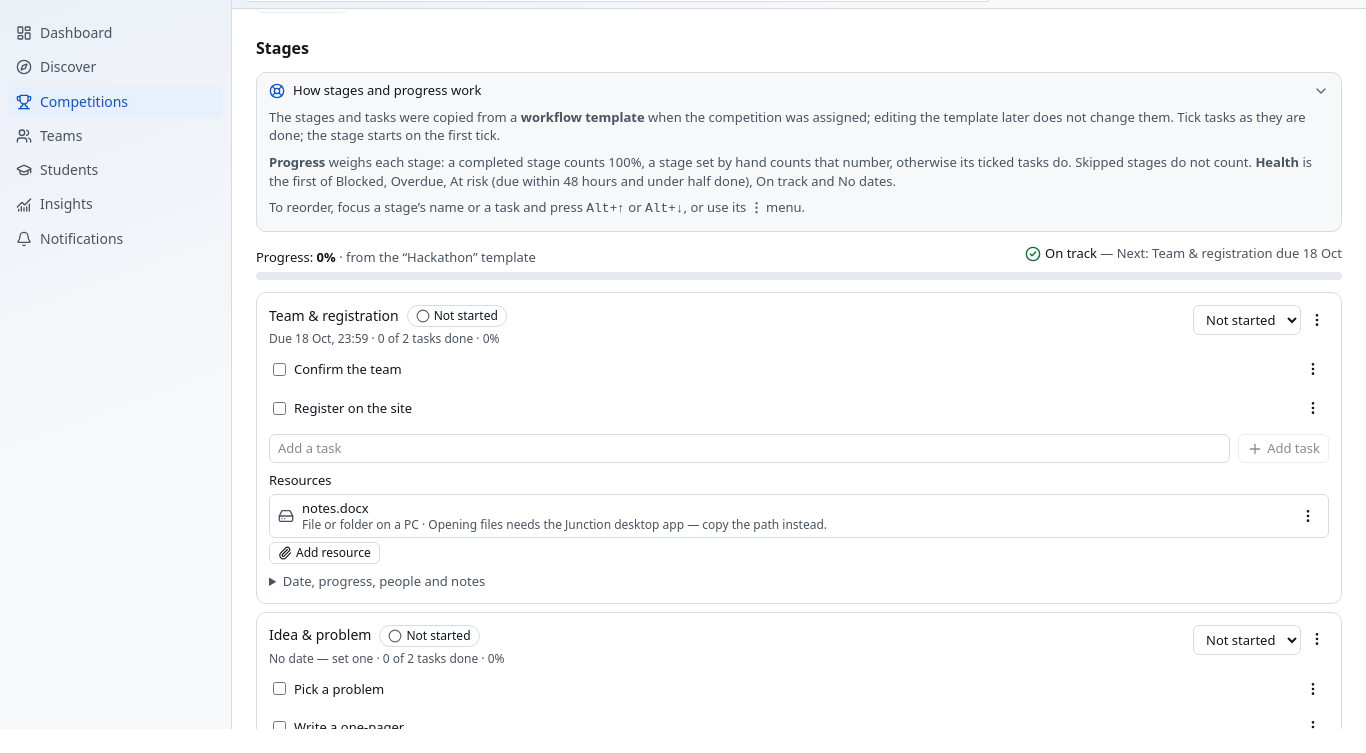
Test case: adding and removing › a task’s menu adds a resource to that task
The image size is (1366, 753).
(page scrolled)
Click the button named "Actions for Confirm the team" at (1313, 369), box [1301,357,1325,381]
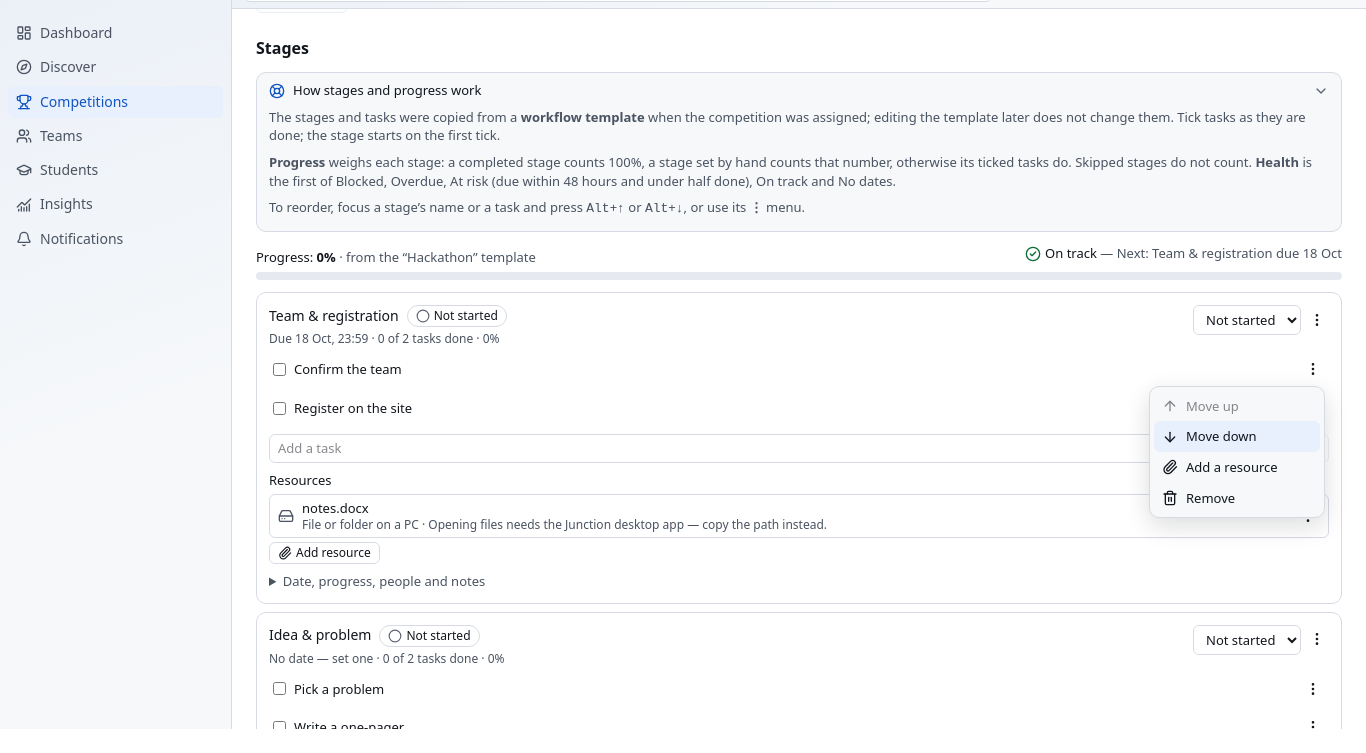
Click the menu item "Add a resource" at (1237, 467), box [1154,452,1320,483]
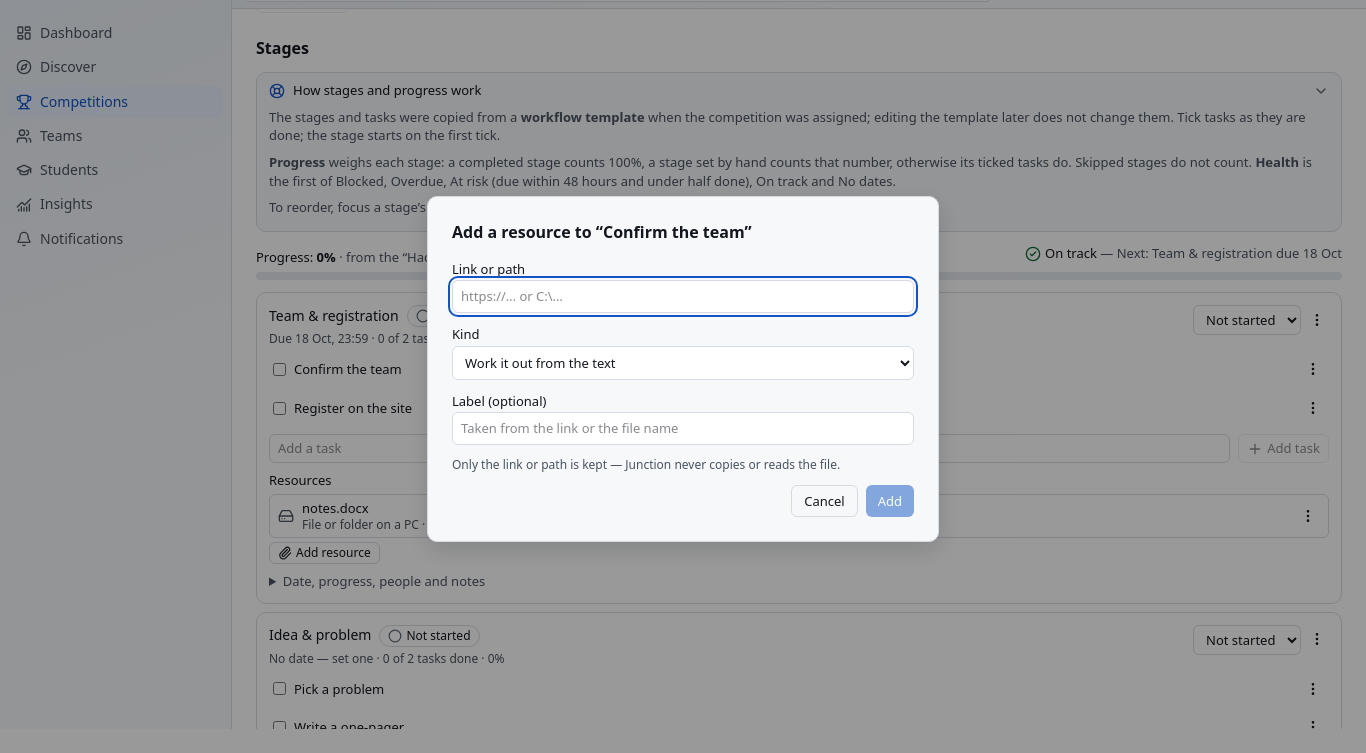
Type "https://docs.google.com/d/x" into the field labelled "Link or path" at (683, 297), box [452,280,914,313]
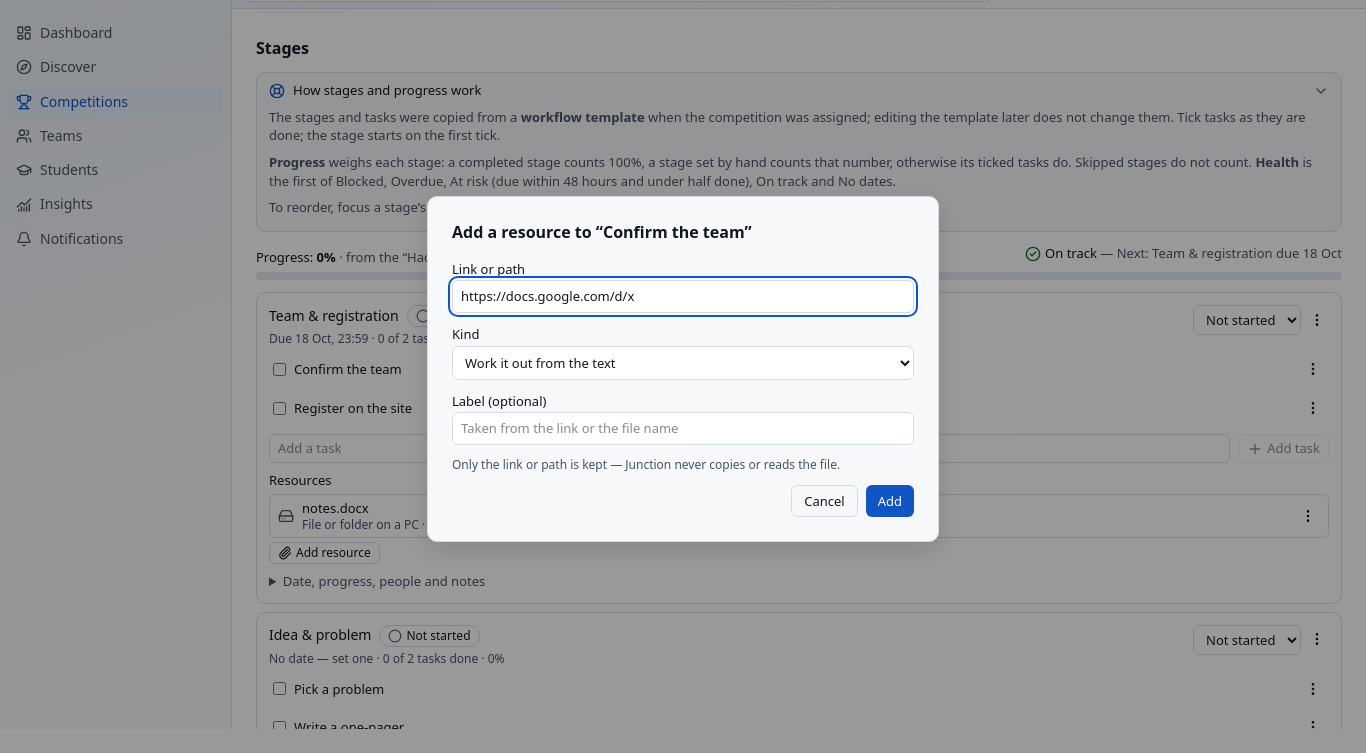
Click the button "Add" at (890, 501), box [866,485,914,517]
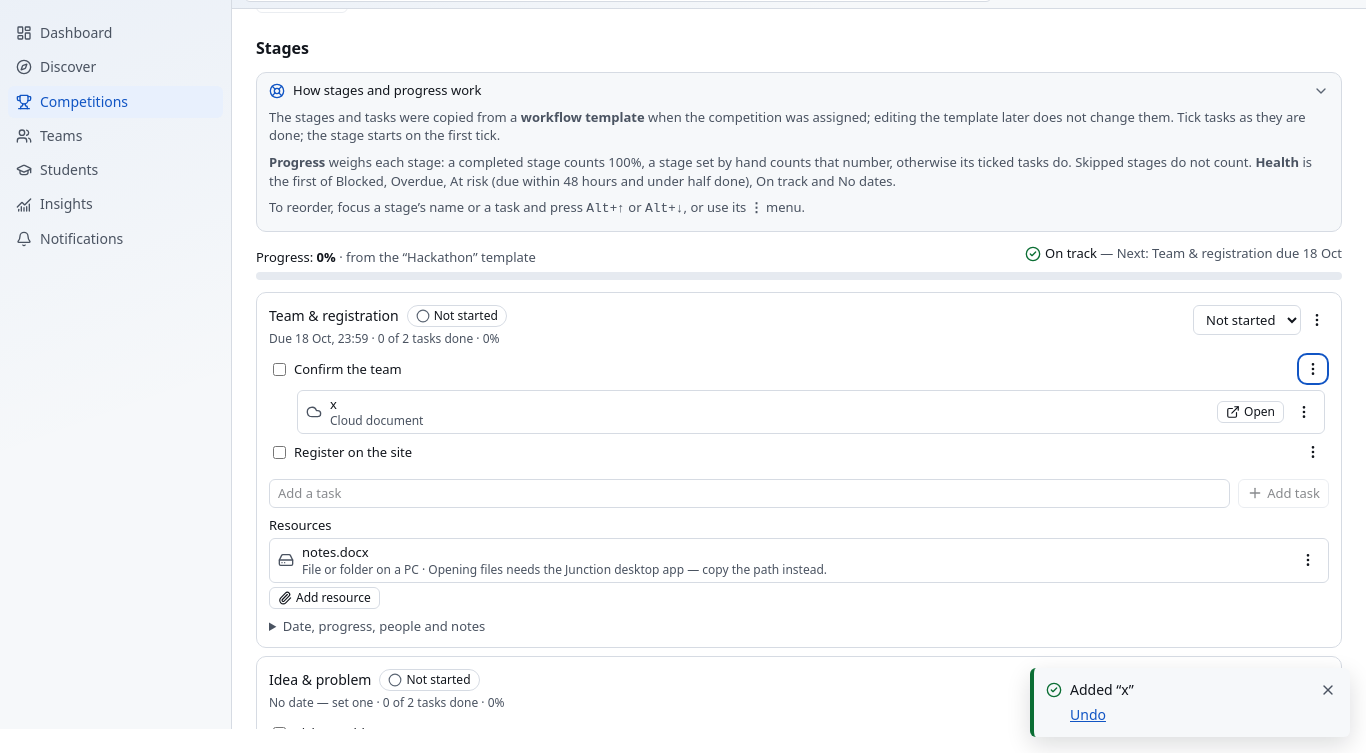
Check: the list named "Resources of Confirm the team" is shown, box [297,390,1325,434]
